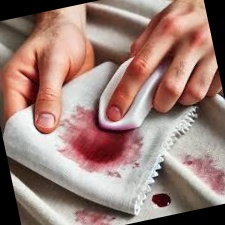wine: (61, 100, 147, 169), (183, 151, 224, 198), (73, 197, 120, 225), (151, 190, 175, 211)
